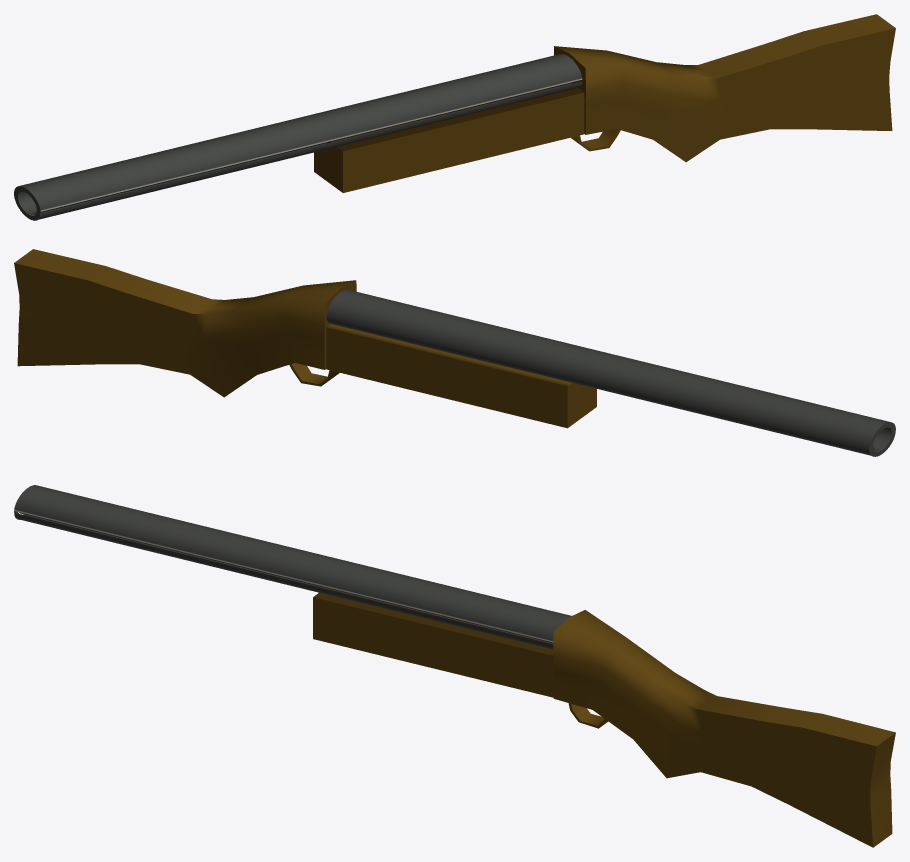
The model's file is Shotgun.FBX.
3 renders of one model, top to bottom at view 1: azimuth 30°, elevation 25°; view 2: azimuth 150°, elevation 25°; view 3: azimuth 330°, elevation 25°, orthographic.
Visible parts, largest first — view 1: corpo, cano, gatilho; view 2: corpo, cano, gatilho; view 3: corpo, cano, gatilho.
Boxes of the visible parts, x1,y1,x2,y2 form: corpo: (554, 14, 895, 162); cano: (14, 54, 582, 220); gatilho: (314, 83, 620, 192); corpo: (14, 249, 356, 397); cano: (326, 289, 895, 456); gatilho: (289, 324, 596, 428); corpo: (553, 610, 895, 847); cano: (14, 485, 571, 649); gatilho: (313, 588, 607, 728).
Size of the model in its own units: 16.49 by 2.7 by 1.07.
